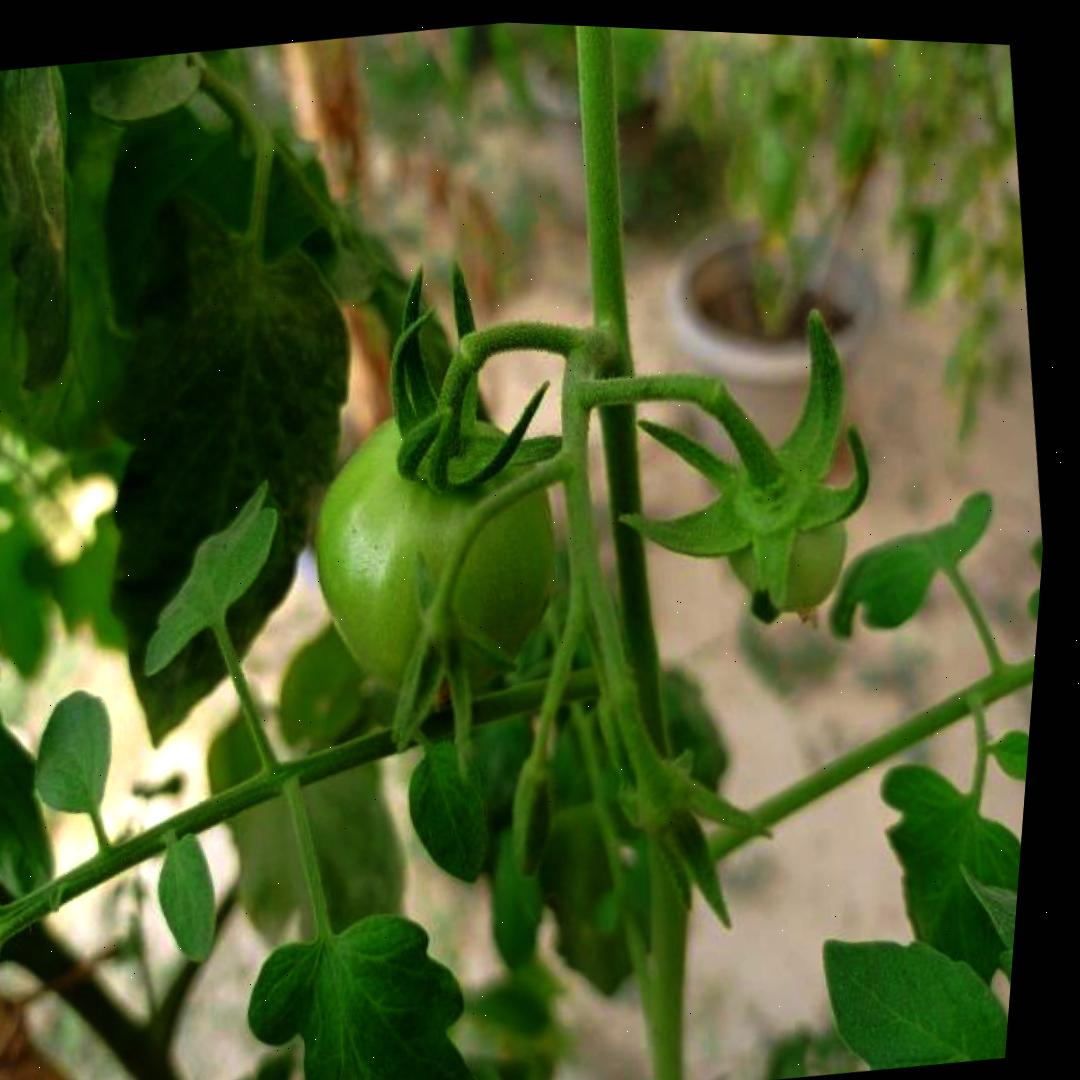mentah: (280, 384, 593, 731), (709, 459, 864, 625)
